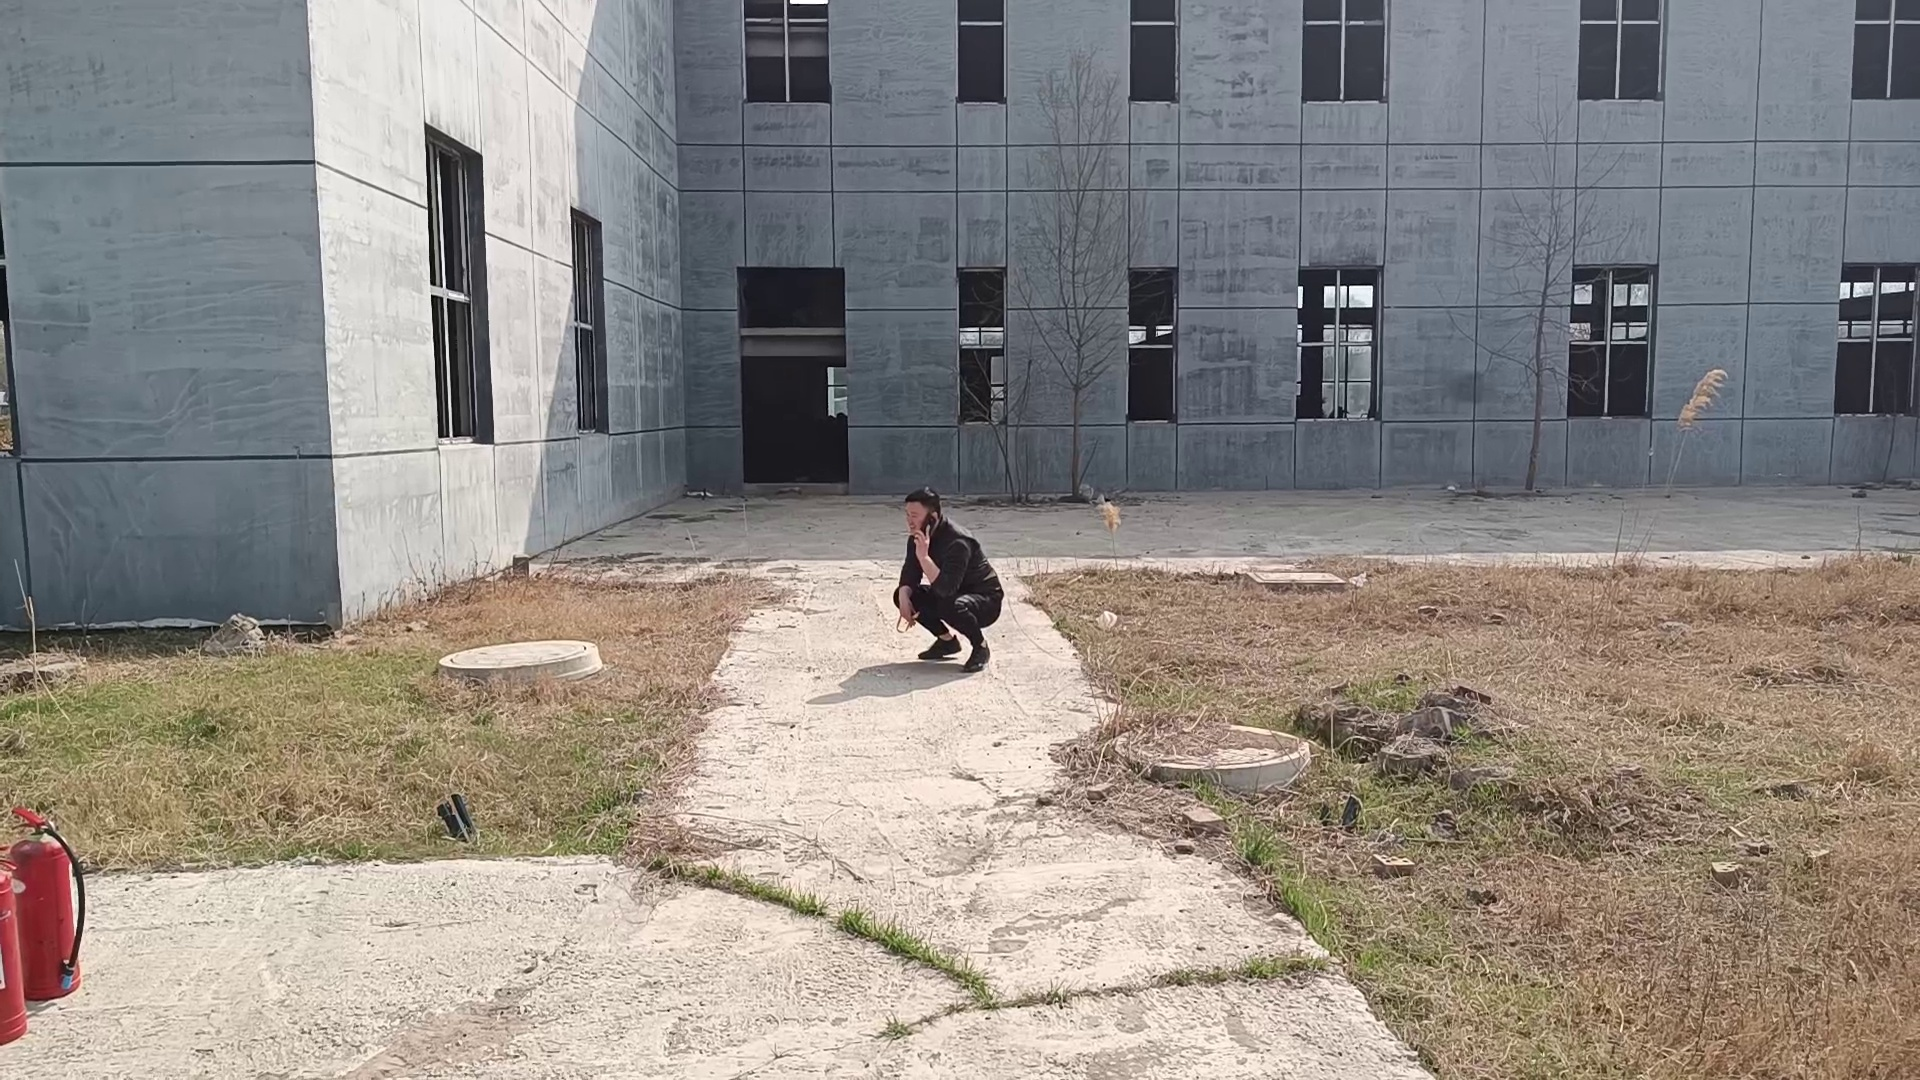phone: (891, 480, 949, 545)
